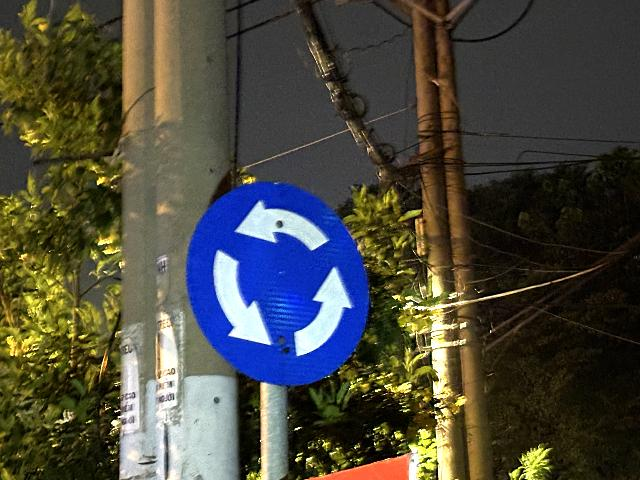noi-giao-nhau-chay-theo-vong-xuyen: (185, 182, 367, 387)
